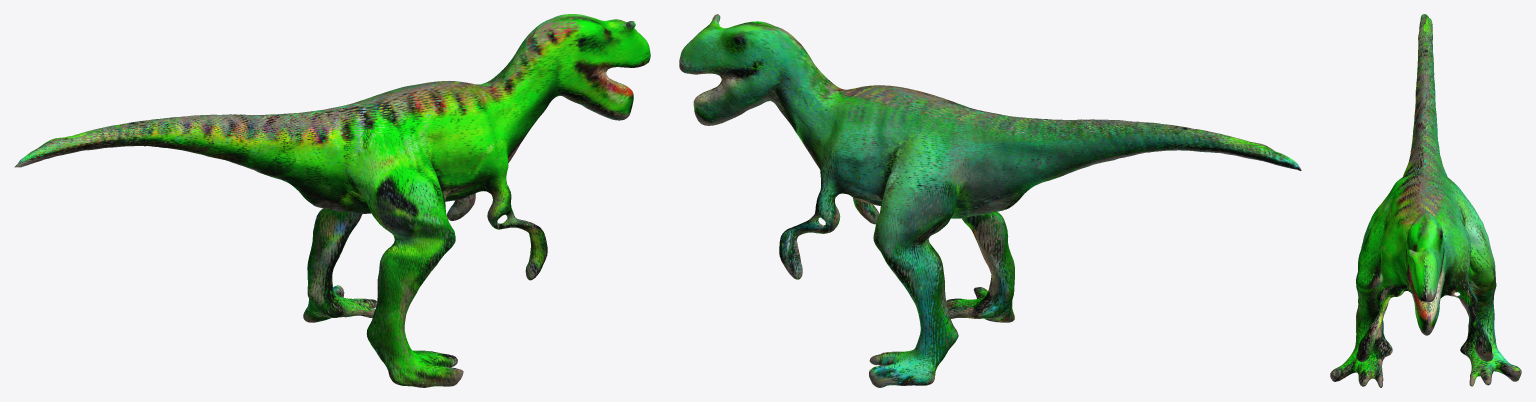
The model's file is textured_texpainter.glb.
3 renders of one model, left to right at view 1: azimuth 30°, elevation 25°; view 2: azimuth 150°, elevation 25°; view 3: azimuth 270°, elevation 25°, orthographic. The views are drawn at different scales.
Parts seen in each view (by area): view 1: Node-Mesh; view 2: Node-Mesh; view 3: Node-Mesh.
Part boxes in pixels (left/top/right/bottom): Node-Mesh: left=14, top=14, right=650, bottom=387; Node-Mesh: left=679, top=14, right=1301, bottom=387; Node-Mesh: left=1330, top=14, right=1521, bottom=387.
Bounding box in the file's own units: 2 × 0.8734 × 0.653.
Materials: 1 (1 with a texture image).
